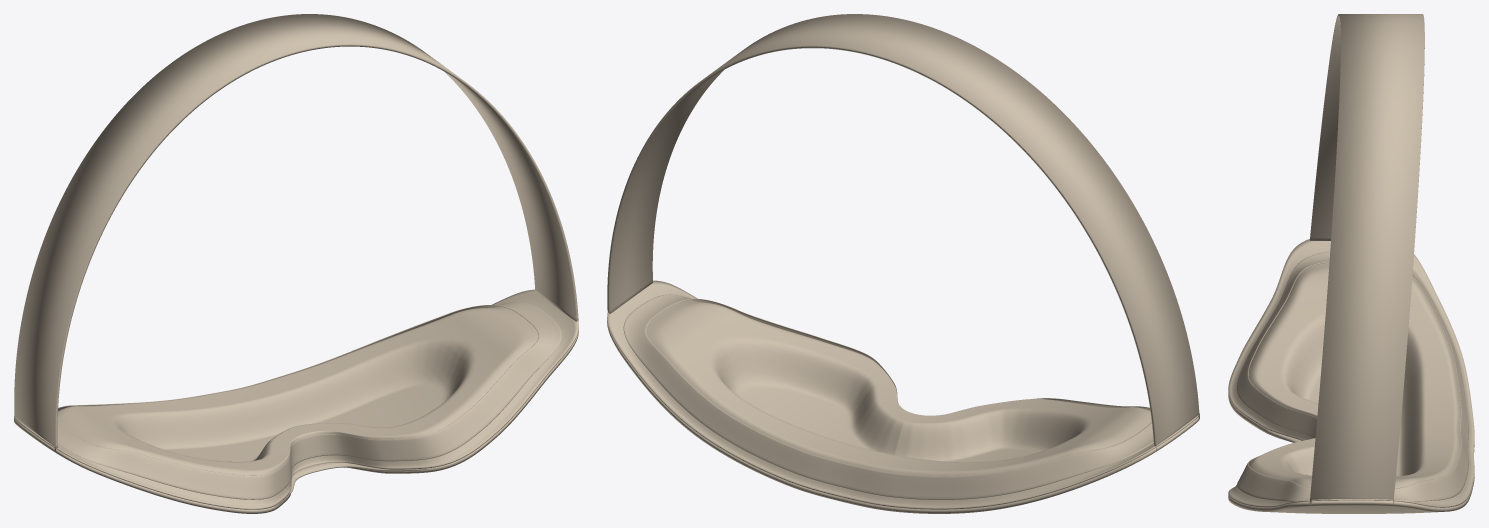
Rendered from Contour-A-oat.glb.
3 views of the same model, side by side, from view 1: azimuth 30°, elevation 25°; view 2: azimuth 150°, elevation 25°; view 3: azimuth 270°, elevation 25° (orthographic). The views are drawn at different scales.
Visible parts, largest first — view 1: 02_Recessed_continuous_eye_liner, 05_Wide_soft_band_no_hard_buckle, 07_Thin_continuous_light_seal_lip, 01_Curved_fabric_envelope; view 2: 02_Recessed_continuous_eye_liner, 05_Wide_soft_band_no_hard_buckle, 07_Thin_continuous_light_seal_lip, 01_Curved_fabric_envelope; view 3: 05_Wide_soft_band_no_hard_buckle, 02_Recessed_continuous_eye_liner, 07_Thin_continuous_light_seal_lip, 01_Curved_fabric_envelope.
Boxes of the visible parts, x1,y1,x2,y2 form: 02_Recessed_continuous_eye_liner: [14, 289, 578, 509]; 05_Wide_soft_band_no_hard_buckle: [14, 14, 578, 451]; 07_Thin_continuous_light_seal_lip: [57, 302, 561, 499]; 01_Curved_fabric_envelope: [14, 329, 578, 513]; 02_Recessed_continuous_eye_liner: [607, 280, 1199, 509]; 05_Wide_soft_band_no_hard_buckle: [607, 14, 1199, 450]; 07_Thin_continuous_light_seal_lip: [623, 294, 1153, 499]; 01_Curved_fabric_envelope: [607, 320, 1199, 513]; 05_Wide_soft_band_no_hard_buckle: [1309, 14, 1424, 504]; 02_Recessed_continuous_eye_liner: [1228, 239, 1474, 507]; 07_Thin_continuous_light_seal_lip: [1237, 251, 1468, 501]; 01_Curved_fabric_envelope: [1228, 394, 1474, 513].
Size of the model in its own units: 0.24 by 0.179 by 0.094.
